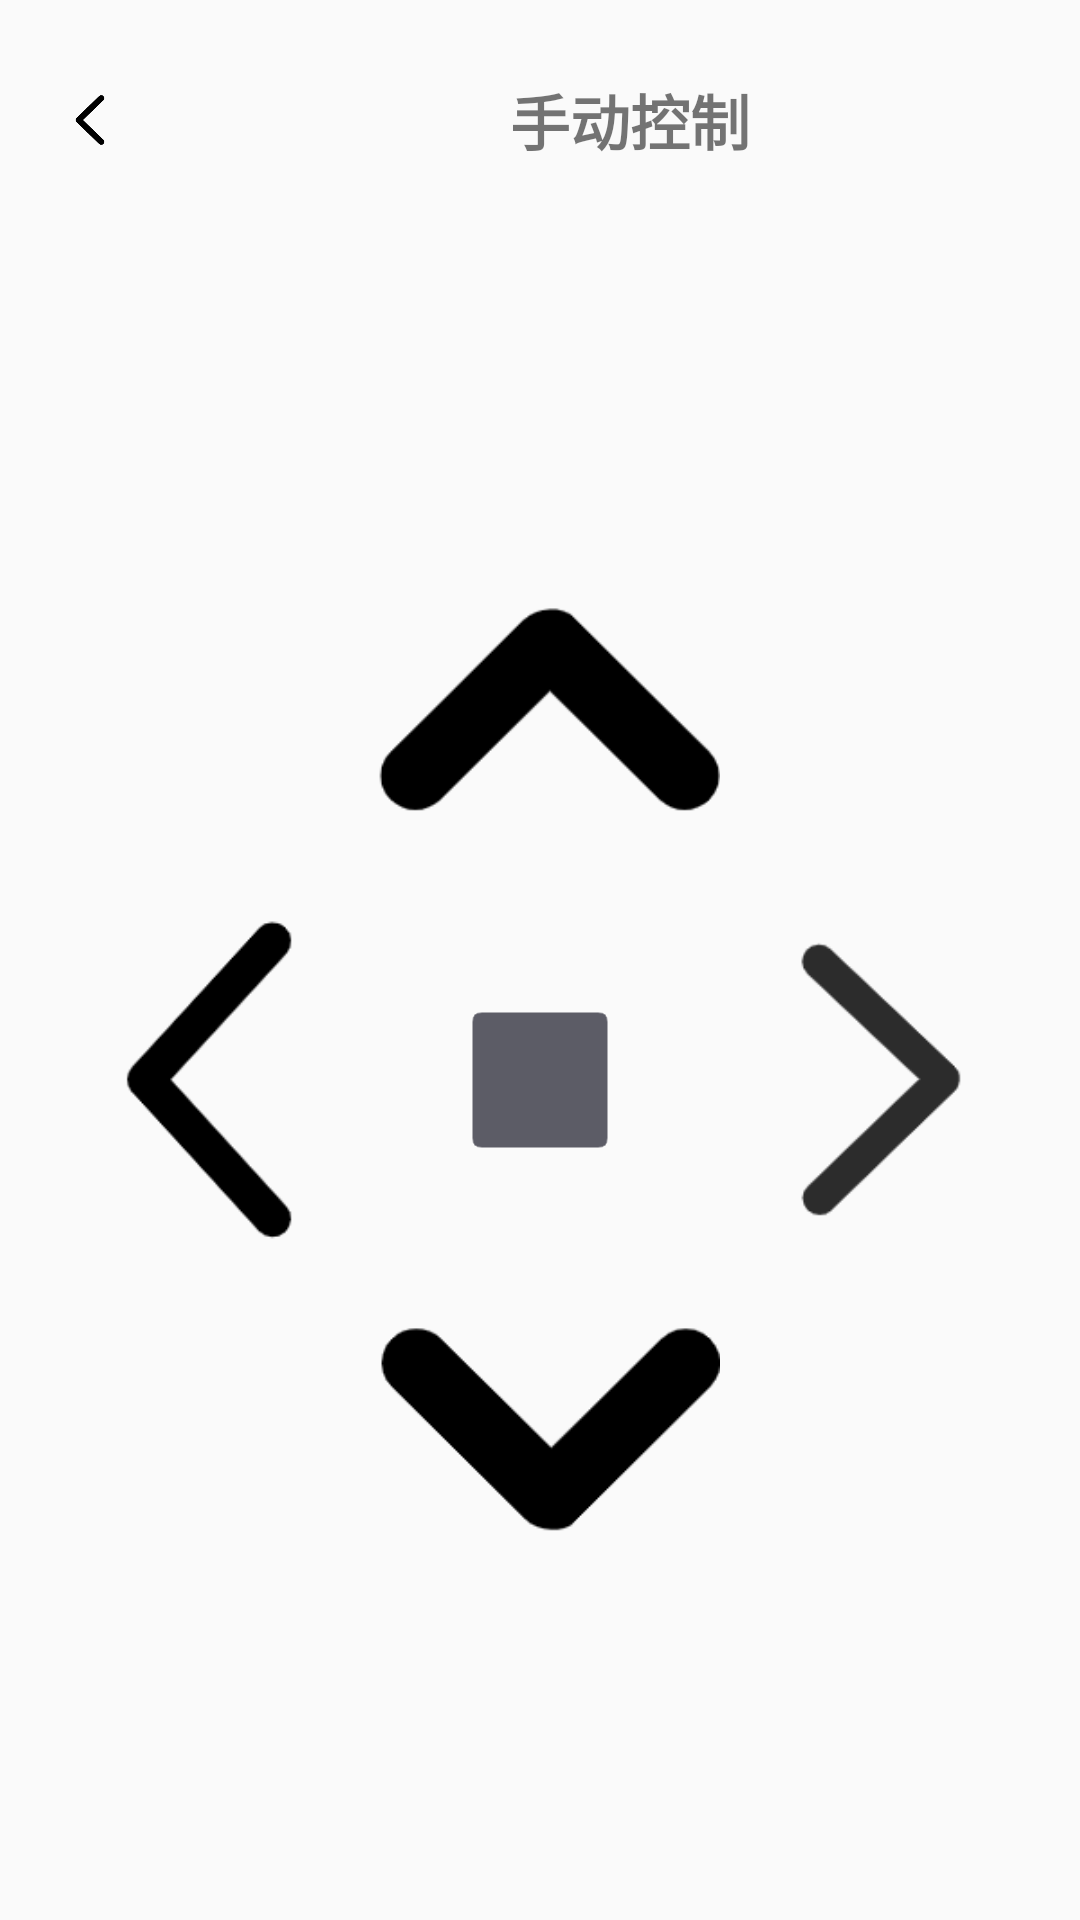

Where to tap for icons on this 1080 x 1920 app screen, as [x,y]:
back: [89,120]
backward: [550,1429]
forward: [549,709]
left: [209,1079]
right: [881,1079]
